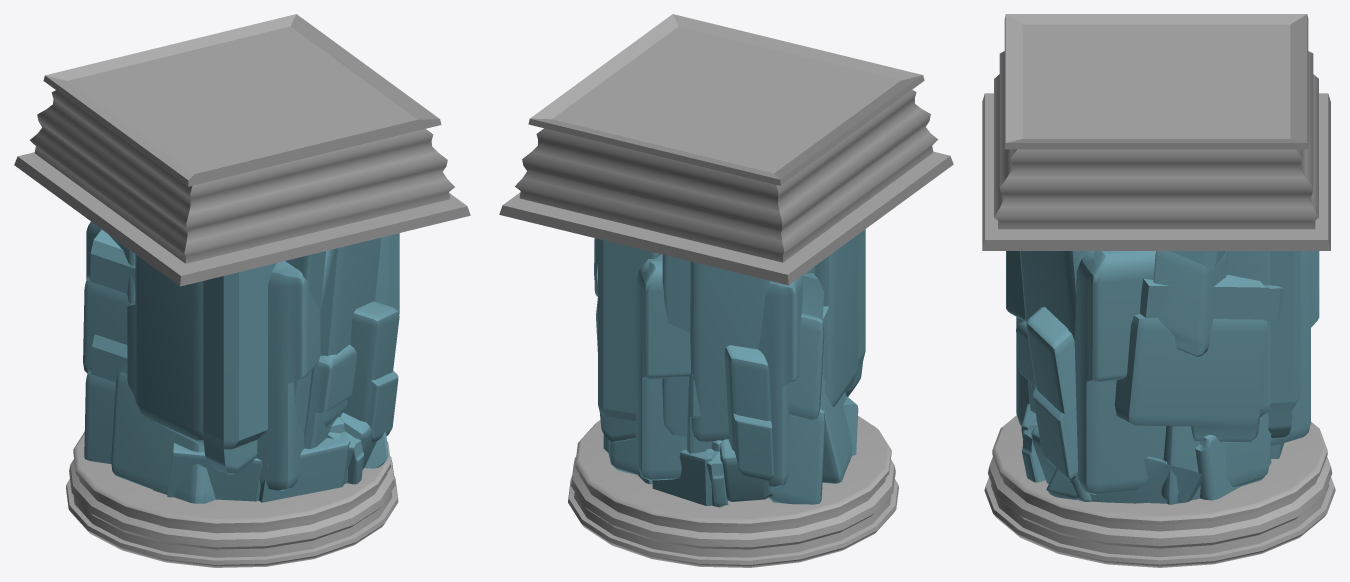
The model's file is SM_Colonne_Roches.fbx.
The picture shows the model from 3 angles, left to right: view 1: azimuth 30°, elevation 25°; view 2: azimuth 150°, elevation 25°; view 3: azimuth 270°, elevation 25°; orthographic projection. The views are drawn at different scales.
Visible parts, largest first — view 1: SM_Colonne_Roches; view 2: SM_Colonne_Roches; view 3: SM_Colonne_Roches.
Part boxes in pixels (x1=…): SM_Colonne_Roches: x1=14, y1=14, x2=470, y2=567; SM_Colonne_Roches: x1=499, y1=14, x2=953, y2=567; SM_Colonne_Roches: x1=982, y1=14, x2=1335, y2=567.
Bounding box in the file's own units: 150 × 193 × 146.
